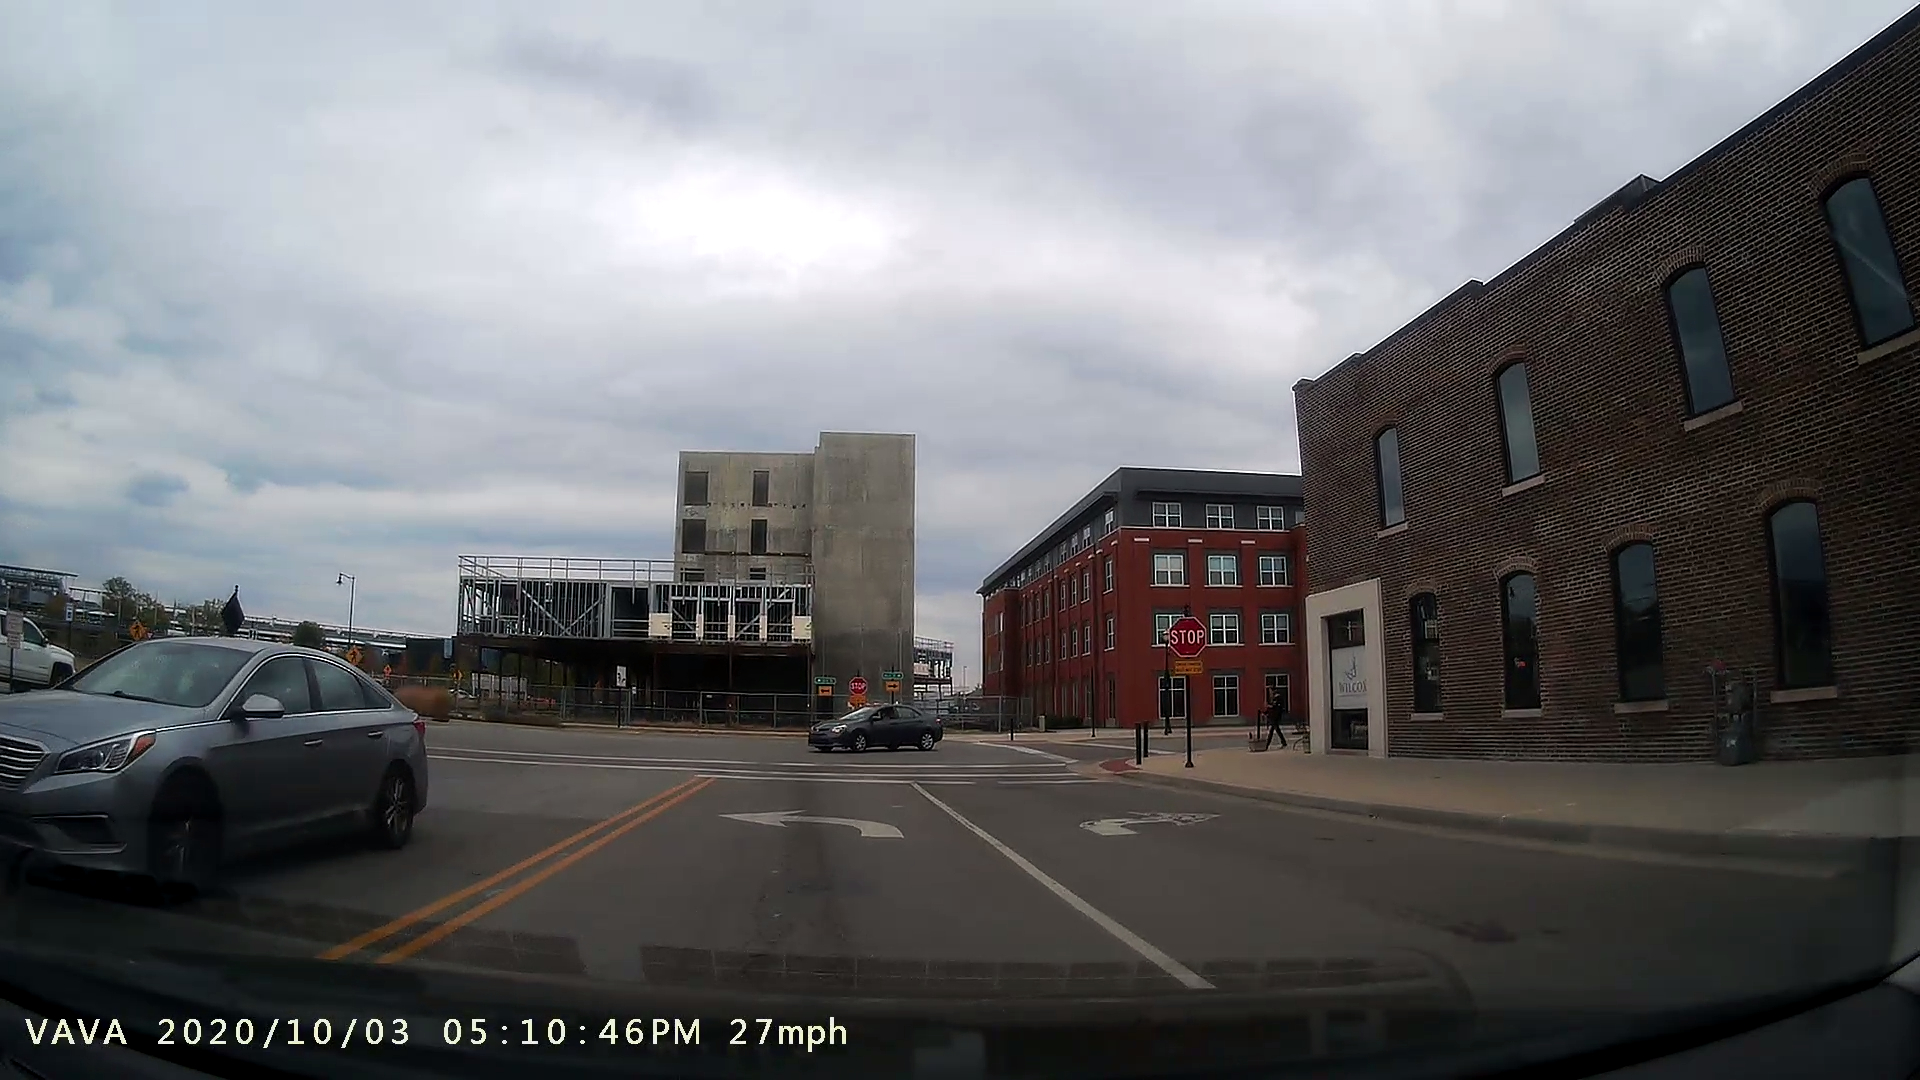left_turn: (713, 796, 915, 855)
right_turn: (1073, 796, 1244, 856)
